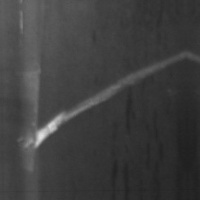scratches: (19, 53, 184, 151)
